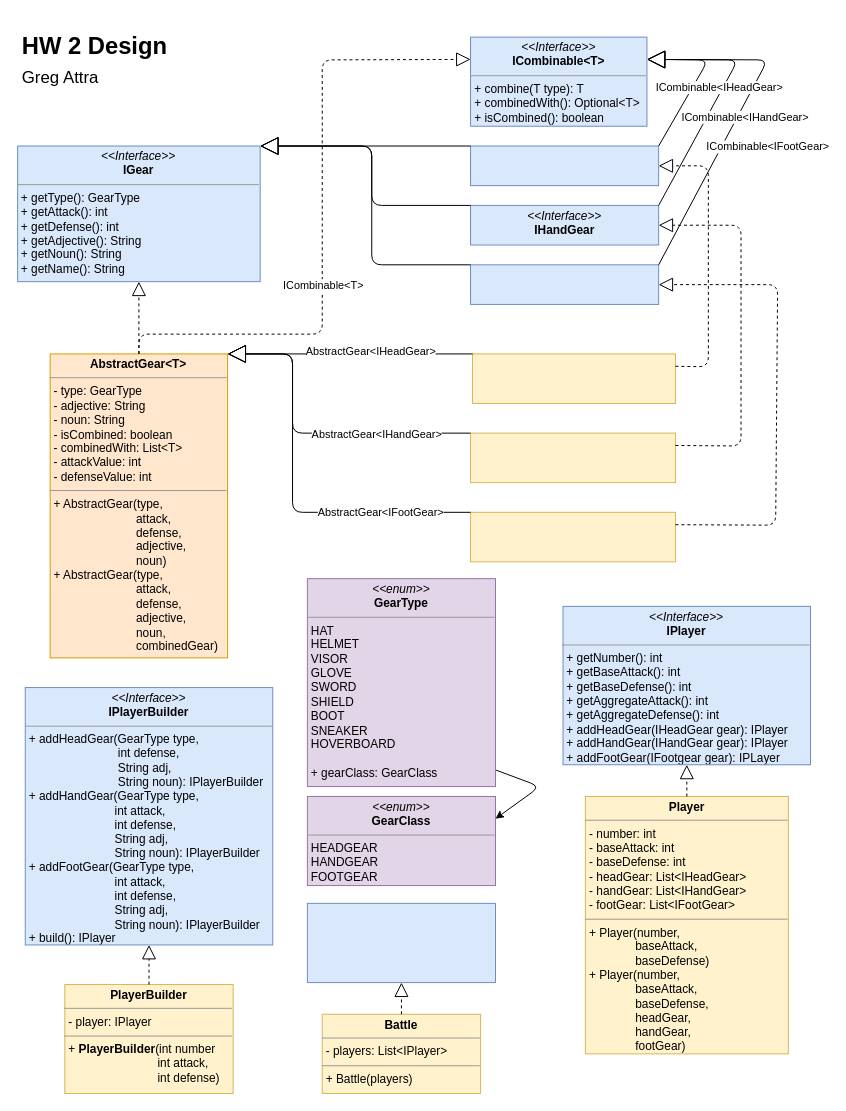
Some shapes in this 846 by 1111 pixel diagram are drawn without their labels. Here are the shapes that lost their labels. From the top down, the centre of each, then its label:
At (x=564, y=165): "<<Interface>> IHeadGear".
At (x=564, y=284): "<<Interface>> IFootGear".
At (x=573, y=378): "HeadGear + combine(IHeadGear): IHeadGear".
At (x=572, y=457): "HandGear + combine(IHandGear): IHandGear".
At (x=572, y=536): "FootGear + combine(IFootGear): IFootGear".
At (x=400, y=942): "<<Interface>> IBattle + getPlayers(): List<IPlayer> + fight(): IPlayer".
